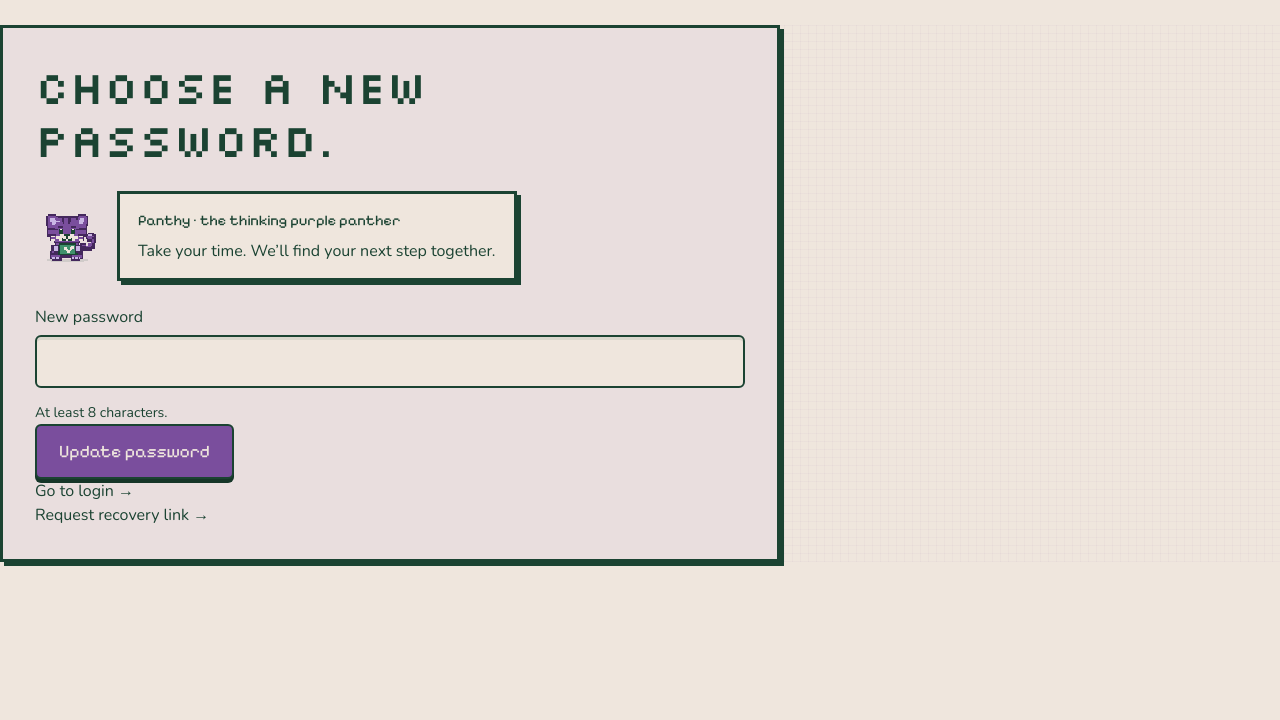
Test case: password update failure keeps the form available for retry
Step 1. Type "new-password" into the password field labelled "New password" → (390, 362), box [35, 336, 745, 388]
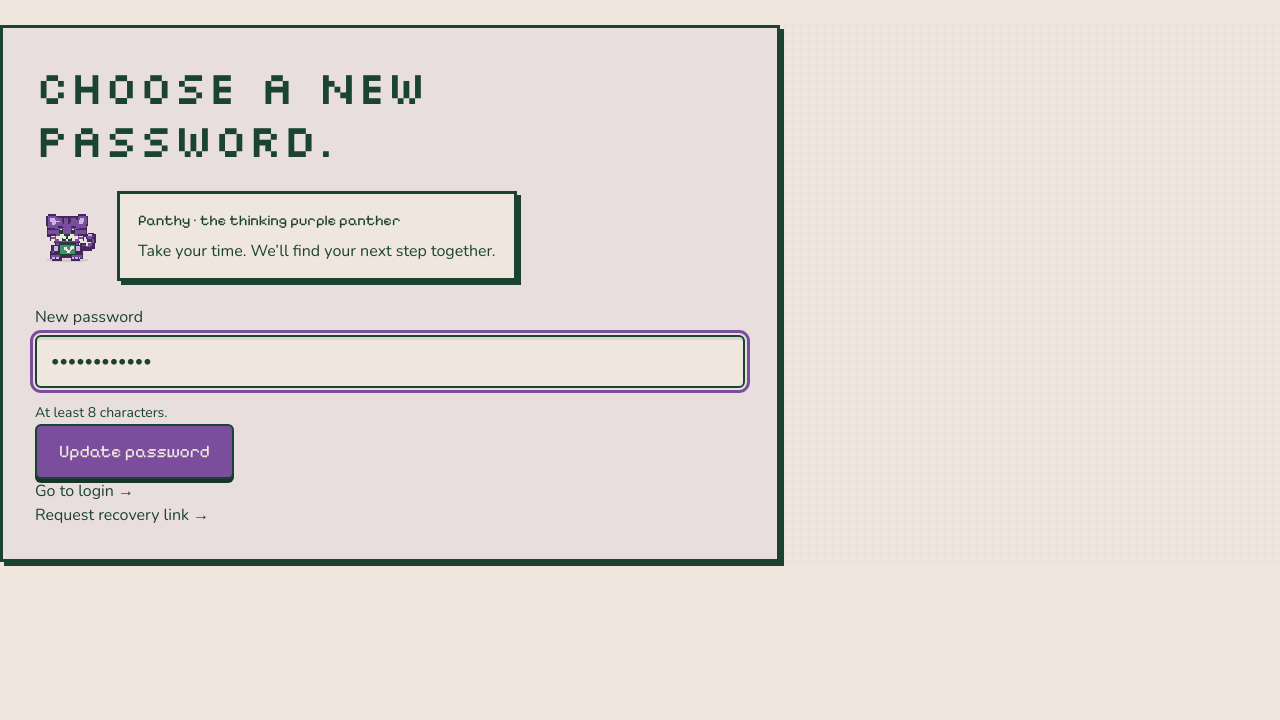
Step 2. Click the button "Update password" → (134, 452), box [35, 424, 234, 479]
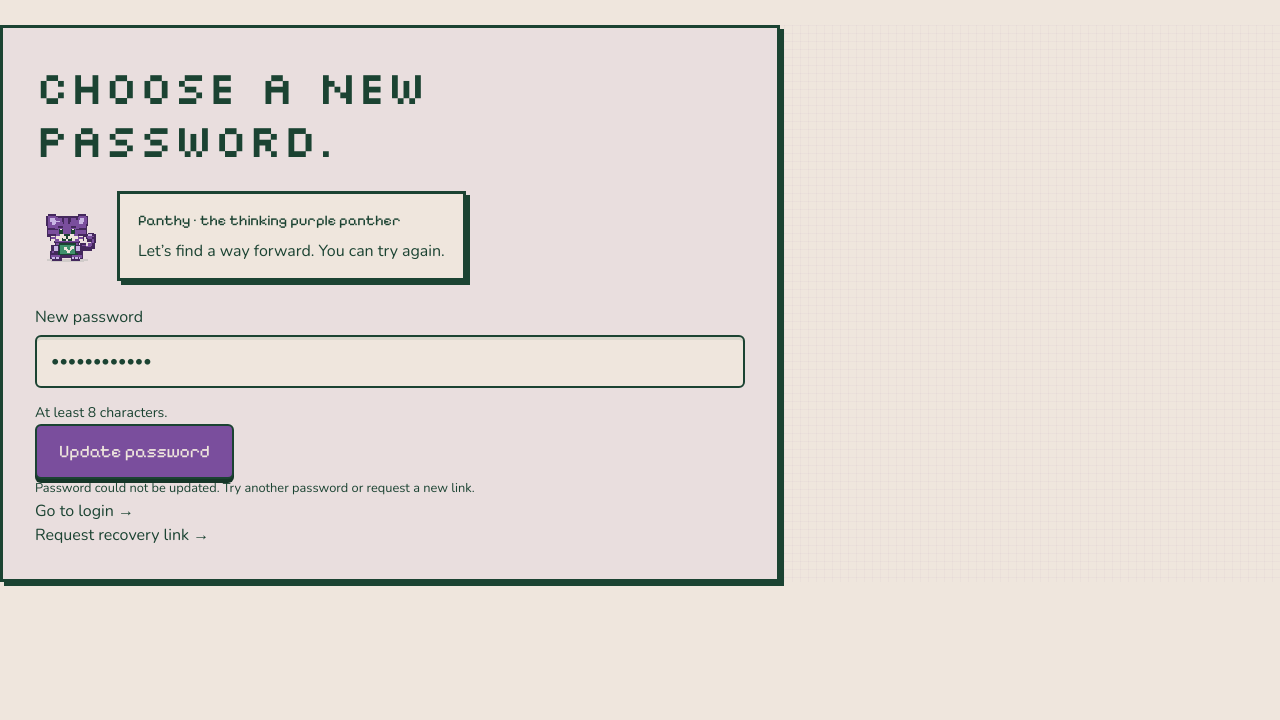
Expected: the message shows "Password could not be updated", [35, 479, 475, 497]
